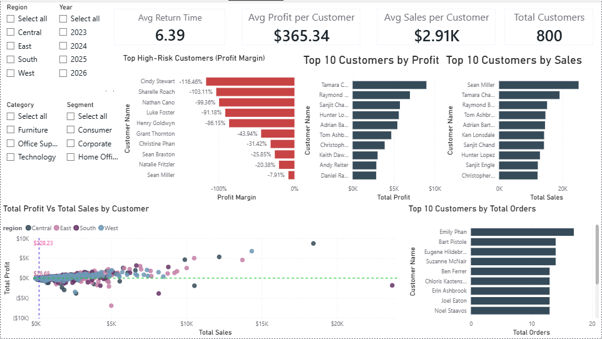

The page's visual inventory and layout, read from the dashboard file:
{"tool":"powerbi","page":{"name":"Customer Analysis","canvas":[1280,720],"ordinal":1},"visuals":[{"type":"clusteredBarChart","title":"Top 10 Customers by Sales","fields":{"Y":["Sum(superstore_cleaned.sales)"],"Category":["superstore_cleaned.customer_name"]},"box":[944,112,336,320],"z":0},{"type":"clusteredBarChart","title":"Top 10 Customers by Profit","fields":{"Category":["superstore_cleaned.customer_name"],"Y":["superstore_cleaned.Net Profit"]},"box":[640,112,304,320],"z":1000},{"type":"cardVisual","fields":{"Data":["superstore_cleaned.Total Customers"]},"box":[1056,0,224,112],"z":2000},{"type":"cardVisual","fields":{"Data":["superstore_cleaned.Avg Sales per Customer"]},"box":[784,0,288,112],"z":3000},{"type":"cardVisual","fields":{"Data":["superstore_cleaned.Avg Profit per Customer"]},"box":[496,0,288,112],"z":4000},{"type":"clusteredBarChart","title":"Top 10 Customers by Total Orders ","fields":{"Category":["superstore_cleaned.customer_name"],"Y":["superstore_cleaned.Order Count"]},"box":[864,432,416,288],"z":5000},{"type":"scatterChart","title":"Total Profit Vs Total Sales by Customer","fields":{"X":["superstore_cleaned.Total Sales"],"Y":["superstore_cleaned.Net Profit"],"Category":["superstore_cleaned.customer_name"],"Series":["superstore_cleaned.region"]},"box":[0,432,864,288],"z":6000},{"type":"cardVisual","fields":{"Data":["superstore_cleaned.Avg return time"]},"box":[224,0,272,112],"z":7000},{"type":"slicer","fields":{"Values":["superstore_cleaned.year"]},"box":[112,0,112,208],"z":8000},{"type":"slicer","fields":{"Values":["superstore_cleaned.category"]},"box":[0,208,128,224],"z":9000},{"type":"slicer","fields":{"Values":["superstore_cleaned.region"]},"box":[0,0,112,208],"z":10000},{"type":"slicer","fields":{"Values":["superstore_cleaned.segment"]},"box":[128,208,128,224],"z":11000},{"type":"barChart","title":"Top High-Risk Customers (Profit Margin)","fields":{"Category":["superstore_cleaned.customer_name"],"Y":["superstore_cleaned.Profit Margin"]},"box":[256,112,384,320],"z":12000}]}

Visuals, with their boxes in screenshot pixels (x1, y1, x2, y2), scaled from the page's 1280x720 canvas onto the 602x339 screenshot:
"Top 10 Customers by Sales" clusteredBarChart: detection(444, 53, 601, 203)
"Top 10 Customers by Profit" clusteredBarChart: detection(301, 53, 444, 203)
cardVisual - superstore_cleaned.Total Customers: detection(497, 0, 601, 53)
cardVisual - superstore_cleaned.Avg Sales per Customer: detection(369, 0, 504, 53)
cardVisual - superstore_cleaned.Avg Profit per Customer: detection(233, 0, 369, 53)
"Top 10 Customers by Total Orders " clusteredBarChart: detection(406, 203, 601, 338)
"Total Profit Vs Total Sales by Customer" scatterChart: detection(0, 203, 406, 338)
cardVisual - superstore_cleaned.Avg return time: detection(105, 0, 233, 53)
slicer - superstore_cleaned.year: detection(53, 0, 105, 98)
slicer - superstore_cleaned.category: detection(0, 98, 60, 203)
slicer - superstore_cleaned.region: detection(0, 0, 53, 98)
slicer - superstore_cleaned.segment: detection(60, 98, 120, 203)
"Top High-Risk Customers (Profit Margin)" barChart: detection(120, 53, 301, 203)
